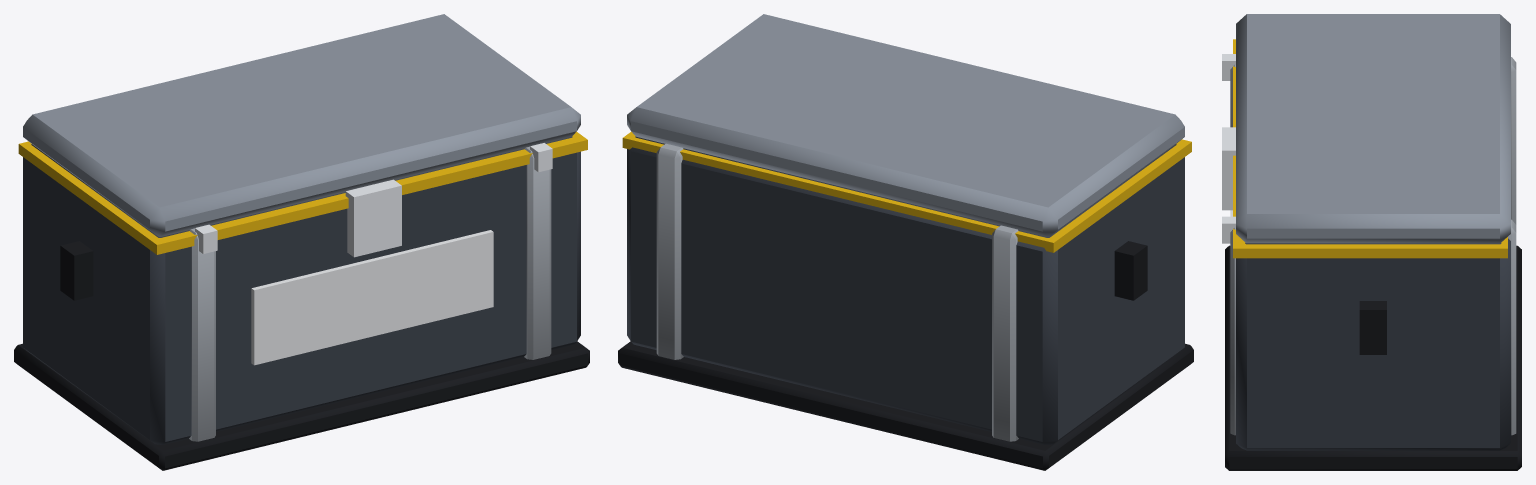
The model's file is locker_footlocker.glb.
3 views of the same model, side by side, from view 1: azimuth 30°, elevation 25°; view 2: azimuth 150°, elevation 25°; view 3: azimuth 270°, elevation 25° (orthographic).
Visible parts, largest first — view 1: locker_footlocker; view 2: locker_footlocker; view 3: locker_footlocker.
Part boxes in pixels (x1,y1,x2,y2): locker_footlocker: [14, 14, 589, 470]; locker_footlocker: [618, 14, 1193, 470]; locker_footlocker: [1222, 14, 1521, 470].
Bounding box in the file's own units: 0.98 × 0.51 × 0.545.
